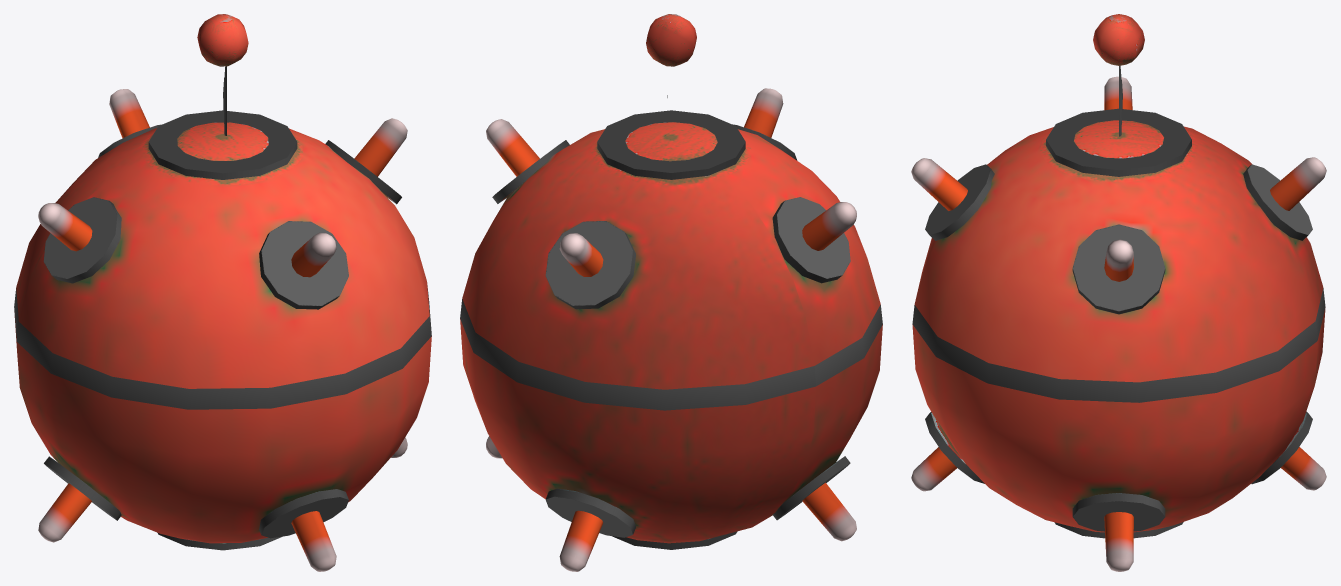
File: 61_ELM_TrigerMine.fbx
The picture shows the model from 3 angles, left to right: view 1: azimuth 30°, elevation 25°; view 2: azimuth 150°, elevation 25°; view 3: azimuth 270°, elevation 25°; orthographic projection. The views are drawn at different scales.
Visible parts, largest first — view 1: TriggerMine; view 2: TriggerMine; view 3: TriggerMine.
Boxes of the visible parts, <box> form: TriggerMine: <box>14,14,431,571</box>; TriggerMine: <box>460,14,882,571</box>; TriggerMine: <box>911,14,1326,571</box>.
Size of the model in its own units: 1.11 by 1.47 by 1.11.
1 material, 1 textured.
